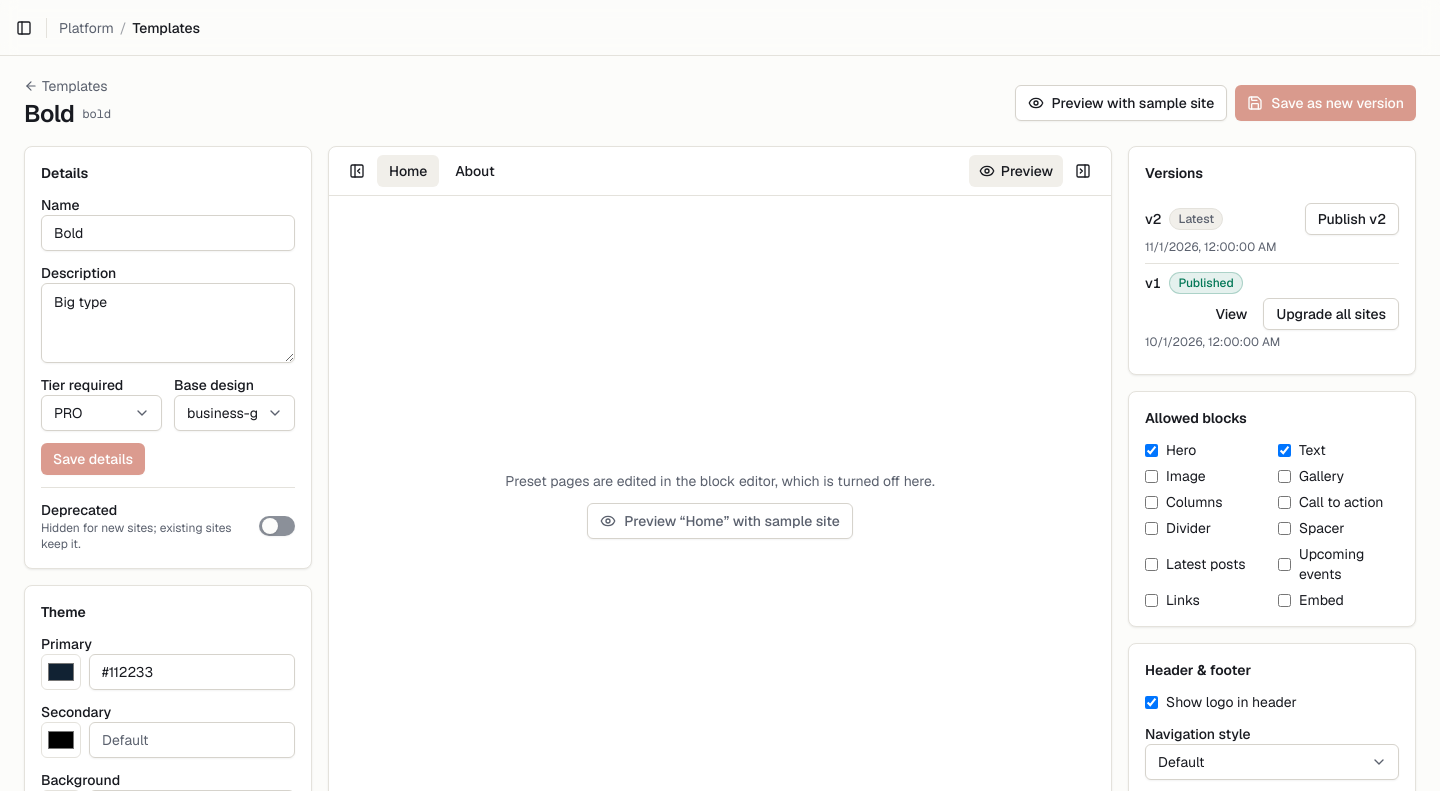
Scenario: template editor › saves a new version with every versioned field
Replace the text in the field labelled "Primary" with "#ff0000" at point(192, 672), box [89,654,295,690]
(page scrolled)
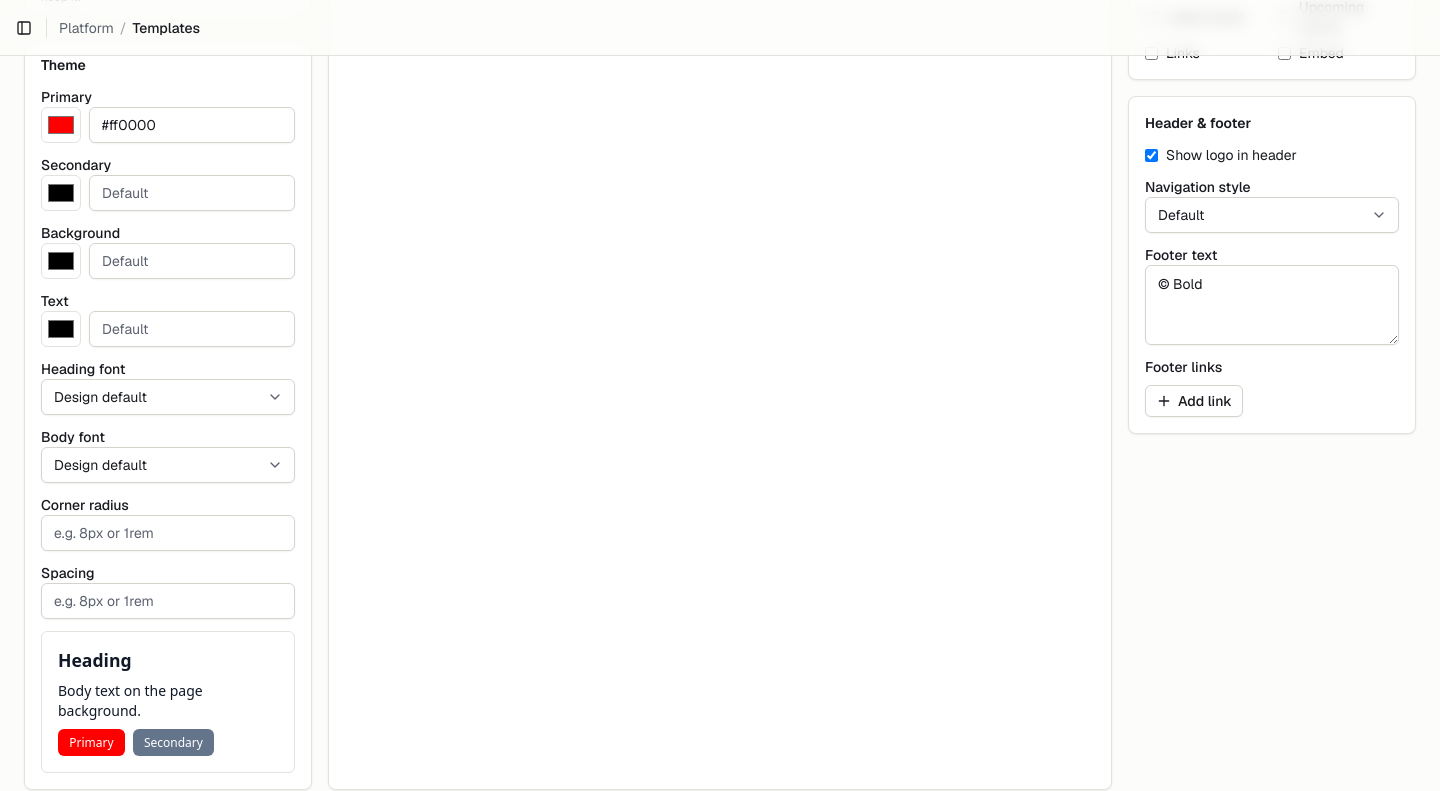
Type "12px" into the field labelled "Corner radius" at point(168, 533), box [41,515,295,551]
(page scrolled)
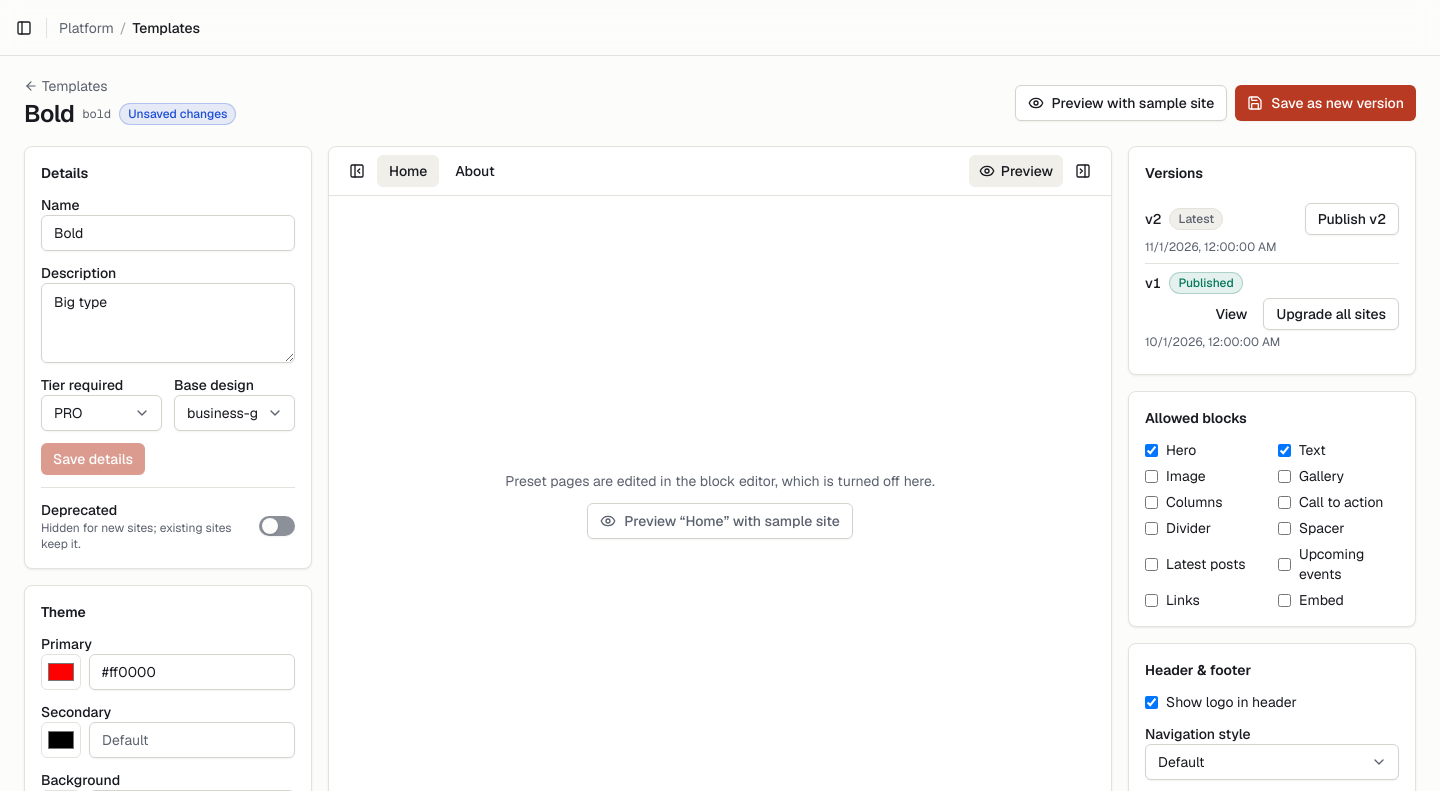
Click the button "Save as new version" at point(1326, 103), box [1235,85,1416,121]
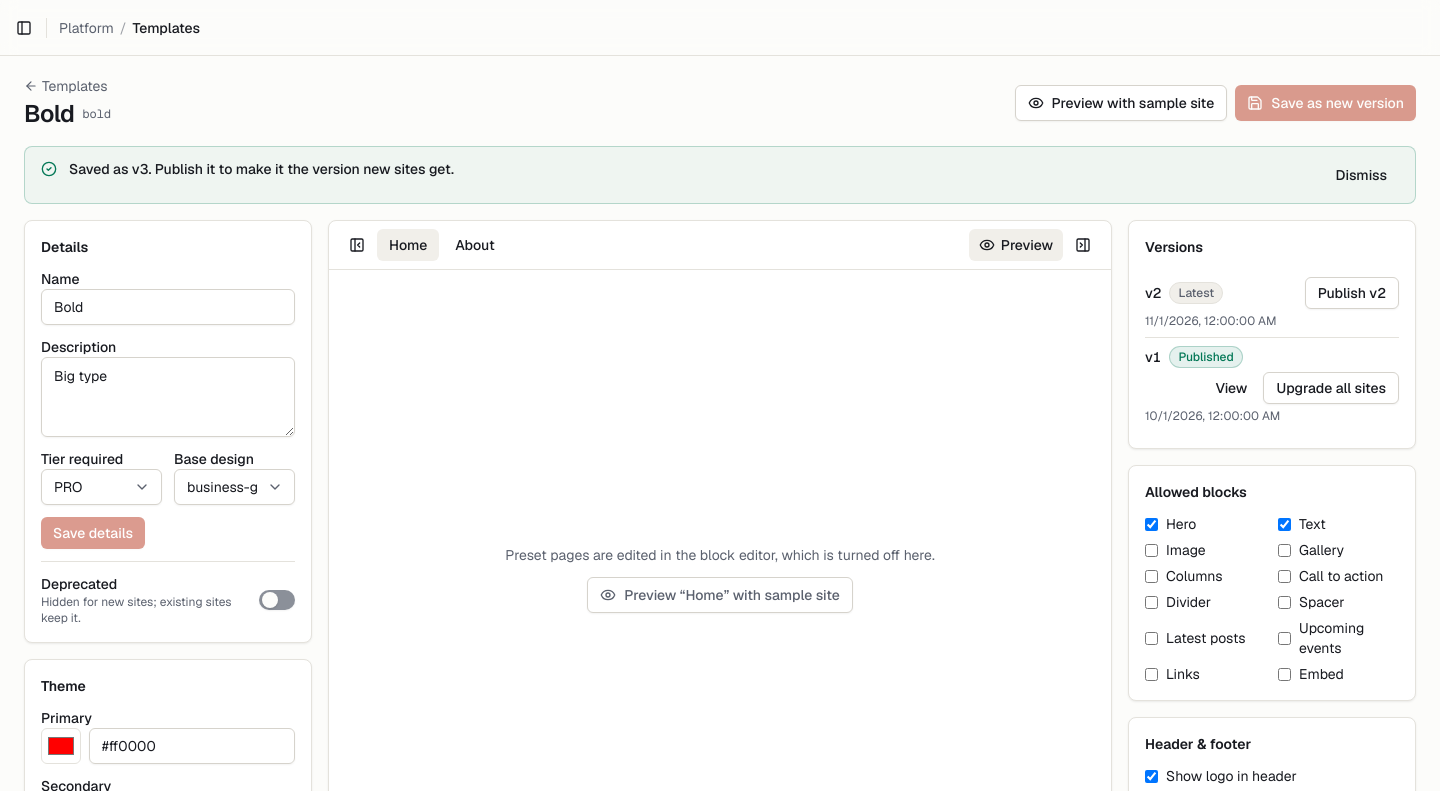
Expected: the text "Saved as v3" is shown, [69,160,454,178]
